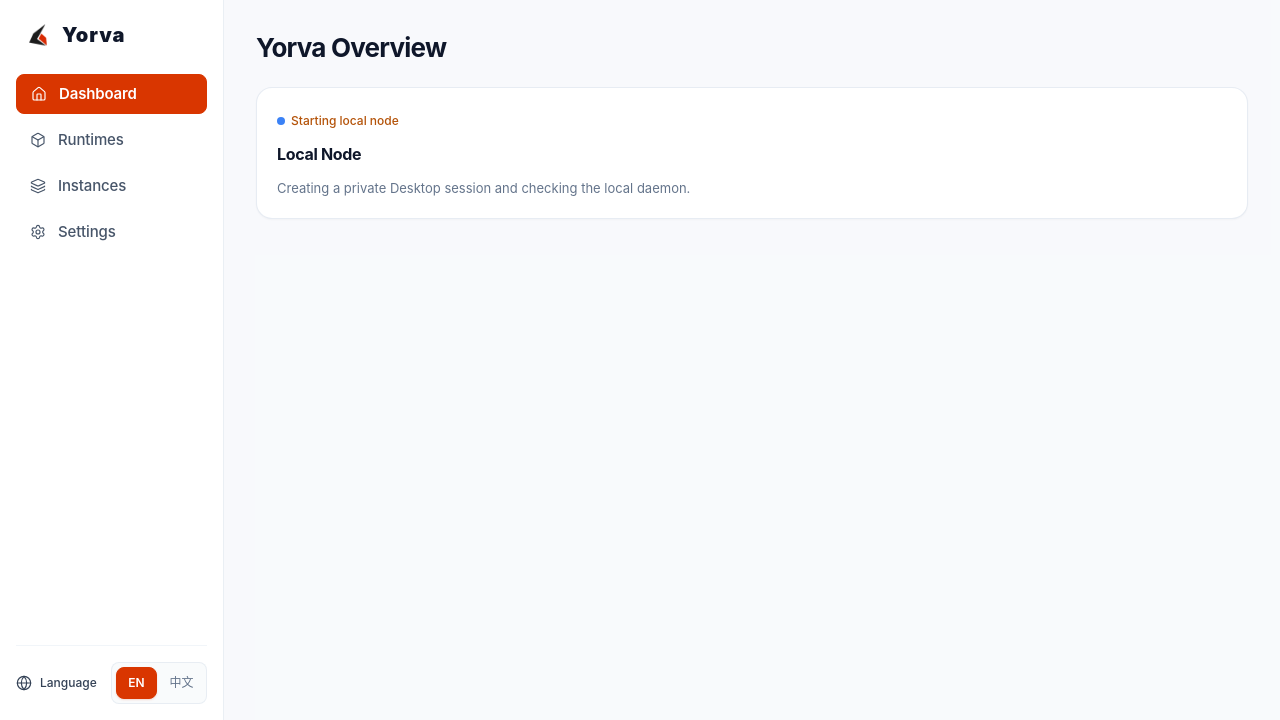
Test: App Hermes install recovery › does not restore a terminal install as active
The image size is (1280, 720).
Click the button "Runtimes" at point(112, 140), box [16,120,207,160]
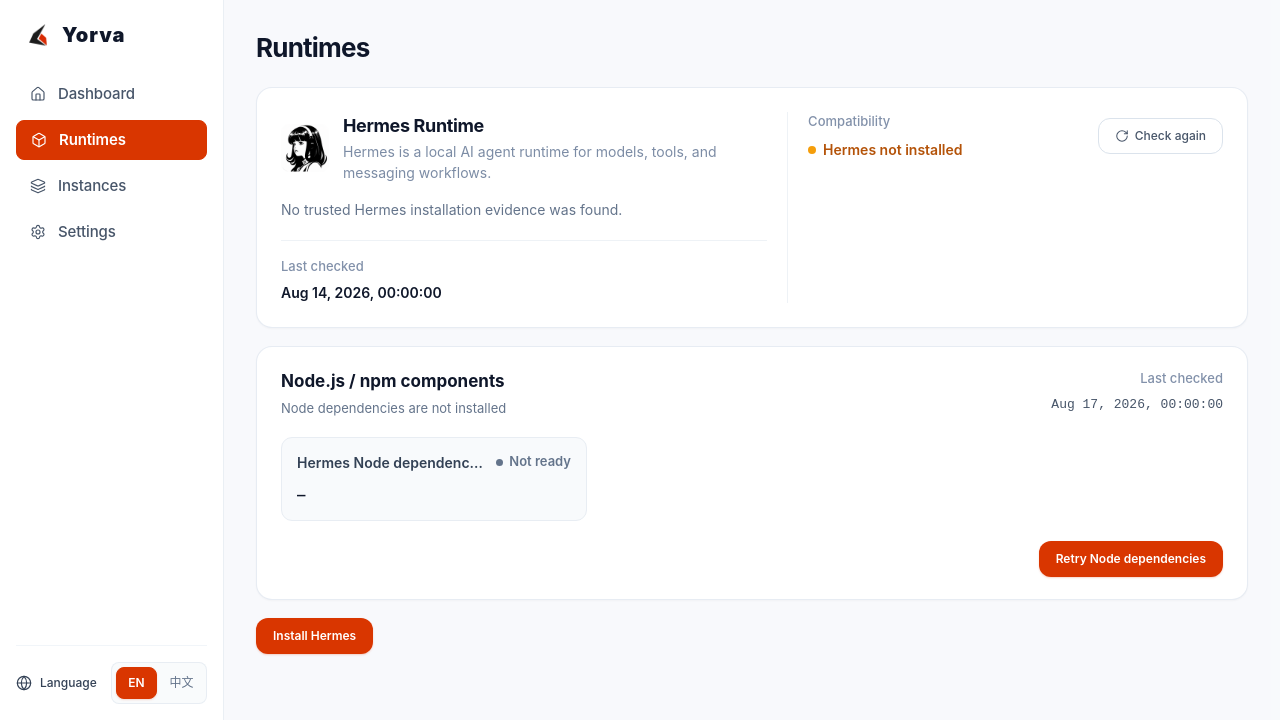
Now the button "Install Hermes" is enabled, box [256,618,373,654]
